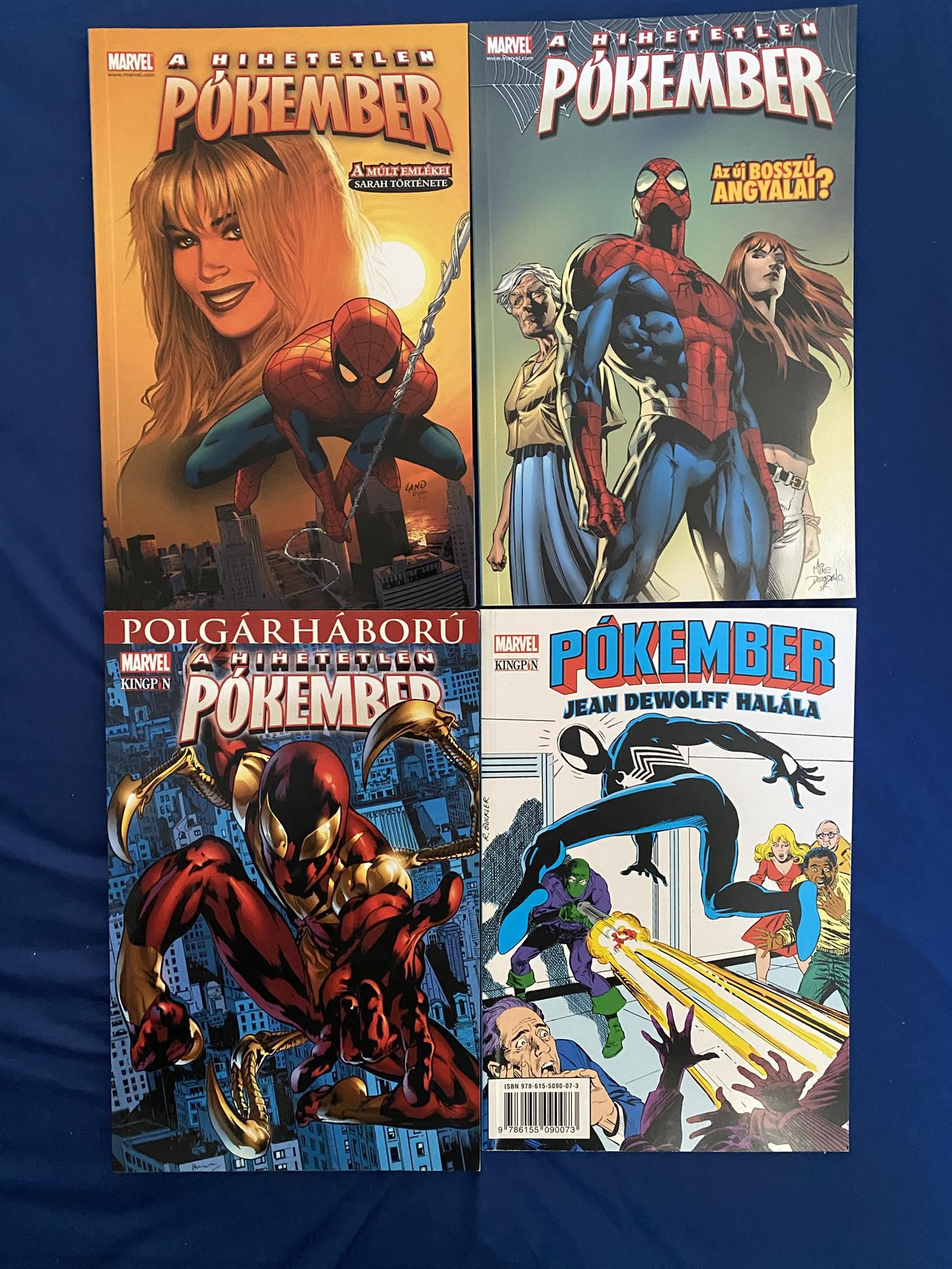comic: (470, 7, 864, 607), (90, 24, 475, 614), (105, 611, 479, 1172), (478, 604, 854, 1152)
